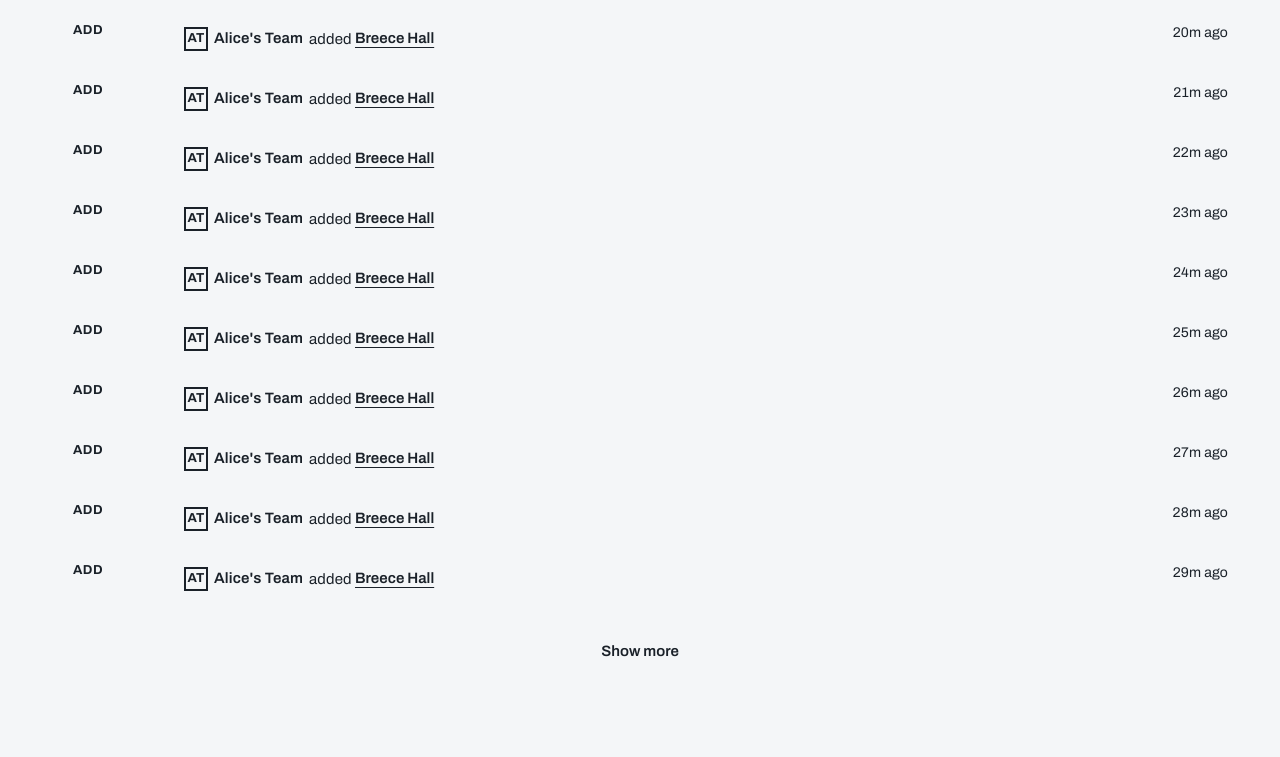
Test: shows 30 rows initially and reveals more on demand
(page scrolled)
Expected: the list item with test id "txn-30" is shown, left=52, top=549, right=1228, bottom=609
Click the button "Show more".
click(640, 651)  # box left=585, top=629, right=695, bottom=673
(page scrolled)
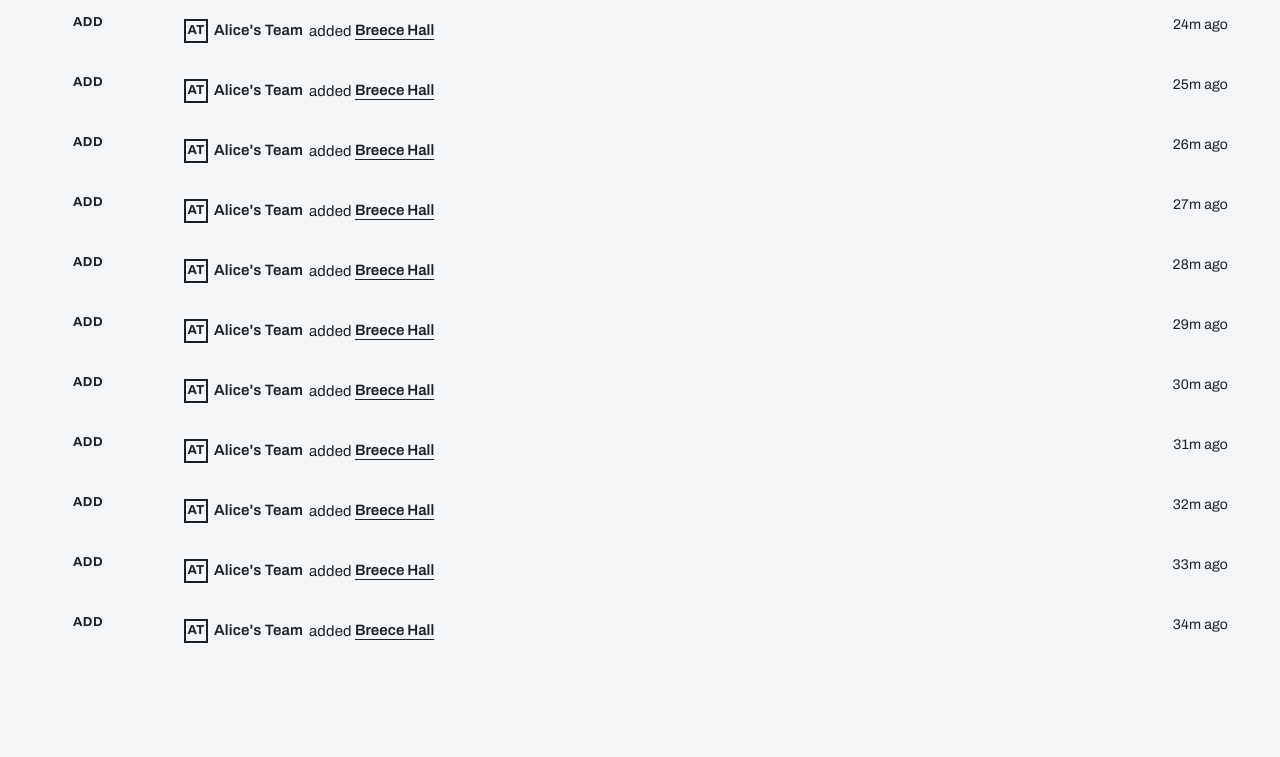
Expected: the list item with test id "txn-35" is shown, left=52, top=601, right=1228, bottom=661
Expected: the button "Show more" is gone
